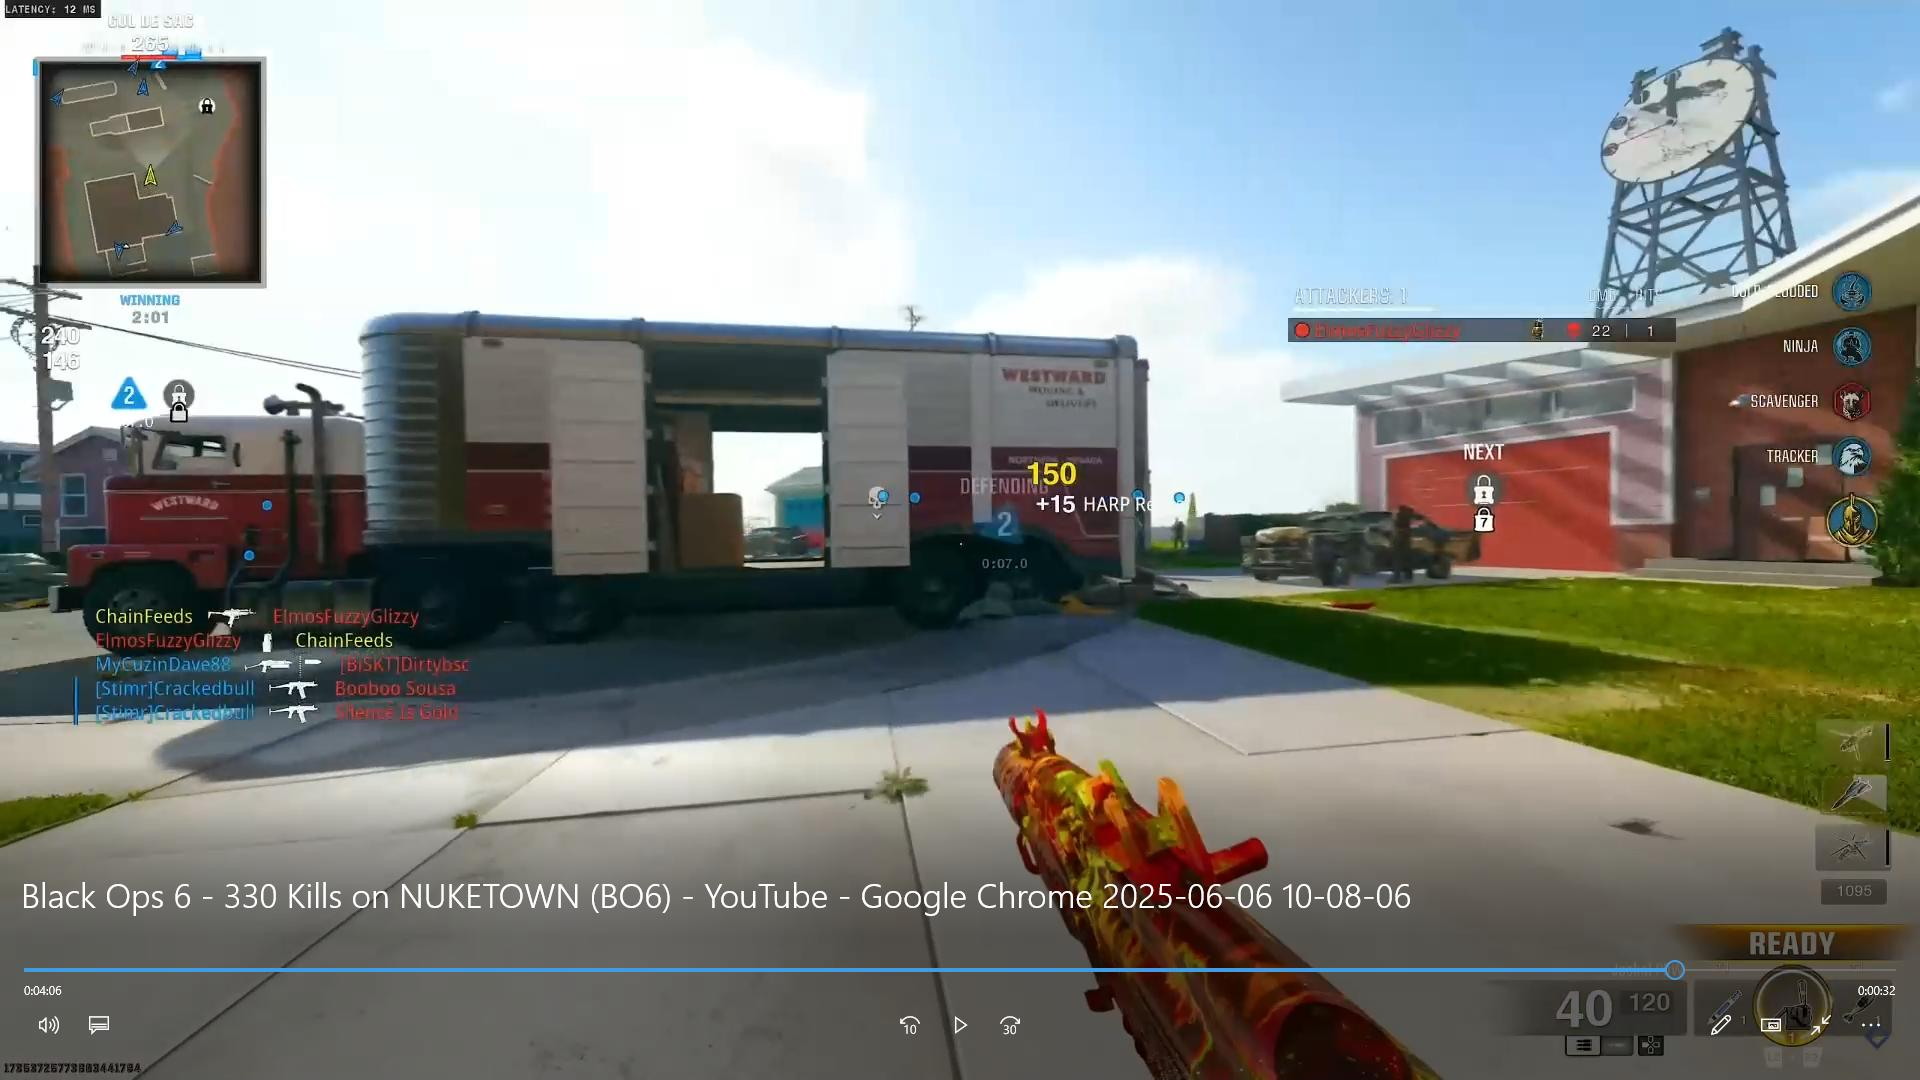Enemy: (1167, 516, 1192, 553)
